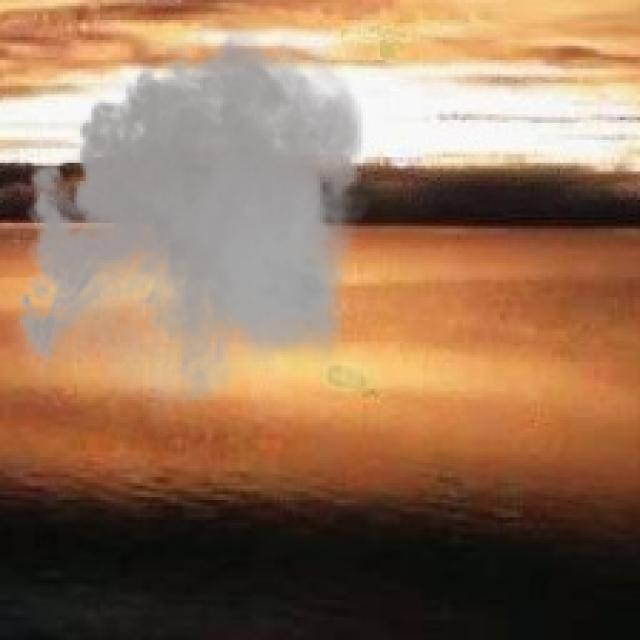smoke: (6, 14, 377, 426)
